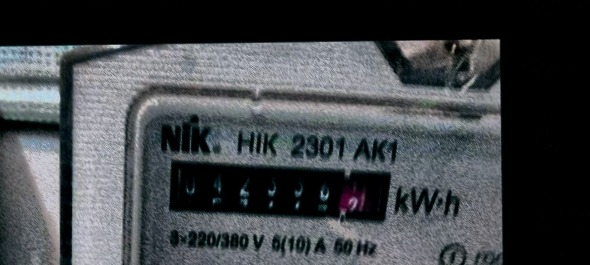0: (183, 170, 196, 199)
2: (235, 171, 253, 198)
3: (262, 171, 278, 200), (291, 171, 305, 200)
4: (209, 171, 225, 198)
6: (316, 177, 331, 204)
screen: (158, 150, 399, 234)
